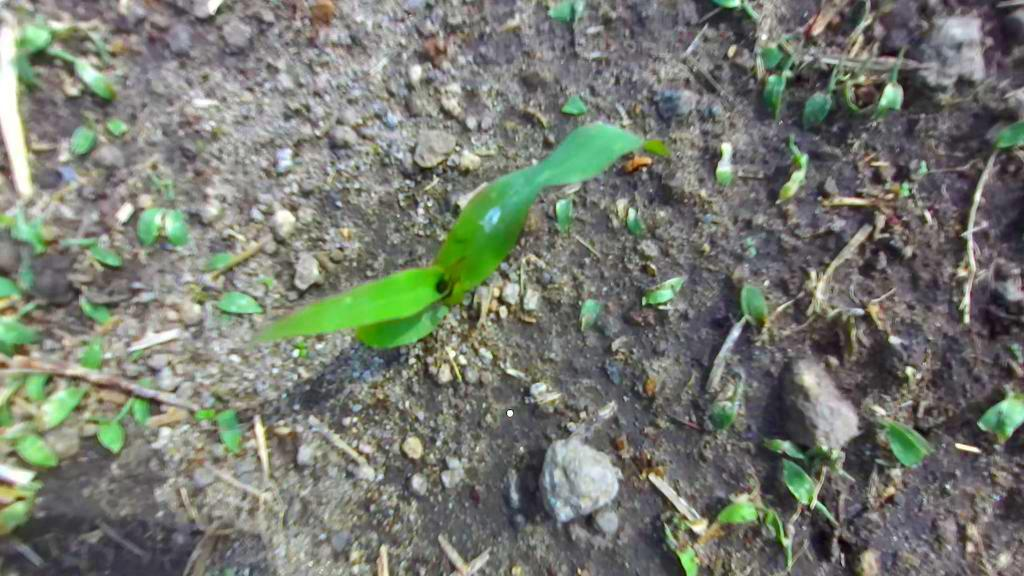BroWeed: (6, 376, 90, 453), (769, 454, 847, 533), (44, 37, 121, 103), (866, 411, 939, 476), (869, 40, 922, 128), (46, 11, 122, 70), (793, 60, 851, 137), (3, 8, 59, 86), (770, 132, 818, 211), (0, 197, 55, 264), (689, 496, 760, 544), (0, 423, 66, 474), (57, 225, 128, 270), (81, 400, 134, 460), (657, 515, 707, 576), (728, 260, 772, 329), (763, 494, 800, 576), (757, 47, 796, 121), (183, 284, 266, 318), (706, 372, 748, 434), (803, 445, 853, 495), (0, 312, 45, 367), (833, 68, 878, 123), (636, 271, 693, 312), (66, 106, 105, 159), (766, 438, 828, 471), (0, 491, 43, 537), (212, 406, 249, 458), (130, 200, 166, 249), (0, 247, 33, 299), (569, 291, 607, 336), (158, 204, 192, 250), (53, 61, 89, 101), (139, 167, 180, 201), (71, 294, 113, 327), (0, 371, 24, 428), (77, 333, 109, 373), (114, 393, 153, 425), (613, 151, 656, 177), (194, 249, 234, 274), (784, 50, 814, 83), (622, 203, 649, 239), (757, 42, 789, 72), (99, 111, 130, 140), (995, 118, 1024, 149), (755, 502, 778, 541), (715, 140, 734, 187), (84, 37, 128, 56), (842, 315, 859, 363), (557, 92, 587, 119), (607, 99, 634, 129), (738, 226, 769, 252), (824, 303, 866, 322), (9, 298, 39, 324), (897, 360, 923, 389), (14, 474, 45, 498), (0, 486, 35, 506), (25, 375, 49, 404), (404, 61, 426, 87), (252, 269, 278, 291), (677, 517, 708, 535), (556, 198, 572, 232), (78, 527, 106, 546), (638, 462, 664, 482), (643, 372, 660, 398), (124, 344, 145, 365), (740, 244, 760, 262), (294, 340, 312, 360), (913, 157, 930, 178), (193, 406, 216, 421), (779, 29, 802, 43), (181, 139, 204, 153), (728, 492, 751, 503), (897, 180, 911, 198), (777, 53, 791, 70), (210, 126, 217, 140)
Maize: (246, 66, 678, 428)
